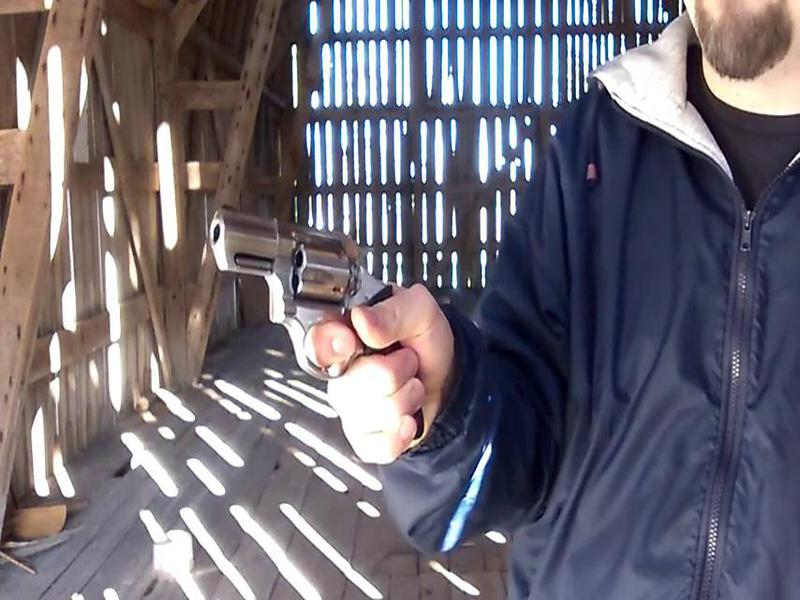Revolver: (203, 198, 422, 386)
